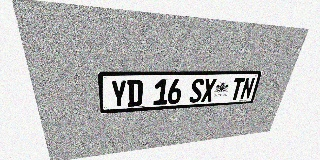1: (153, 79, 169, 105)
6: (167, 79, 183, 104)
D: (127, 80, 143, 107)
N: (240, 78, 256, 100)
S: (189, 78, 205, 103)
T: (229, 78, 245, 100)
X: (201, 78, 217, 102)
Y: (110, 80, 127, 108)
